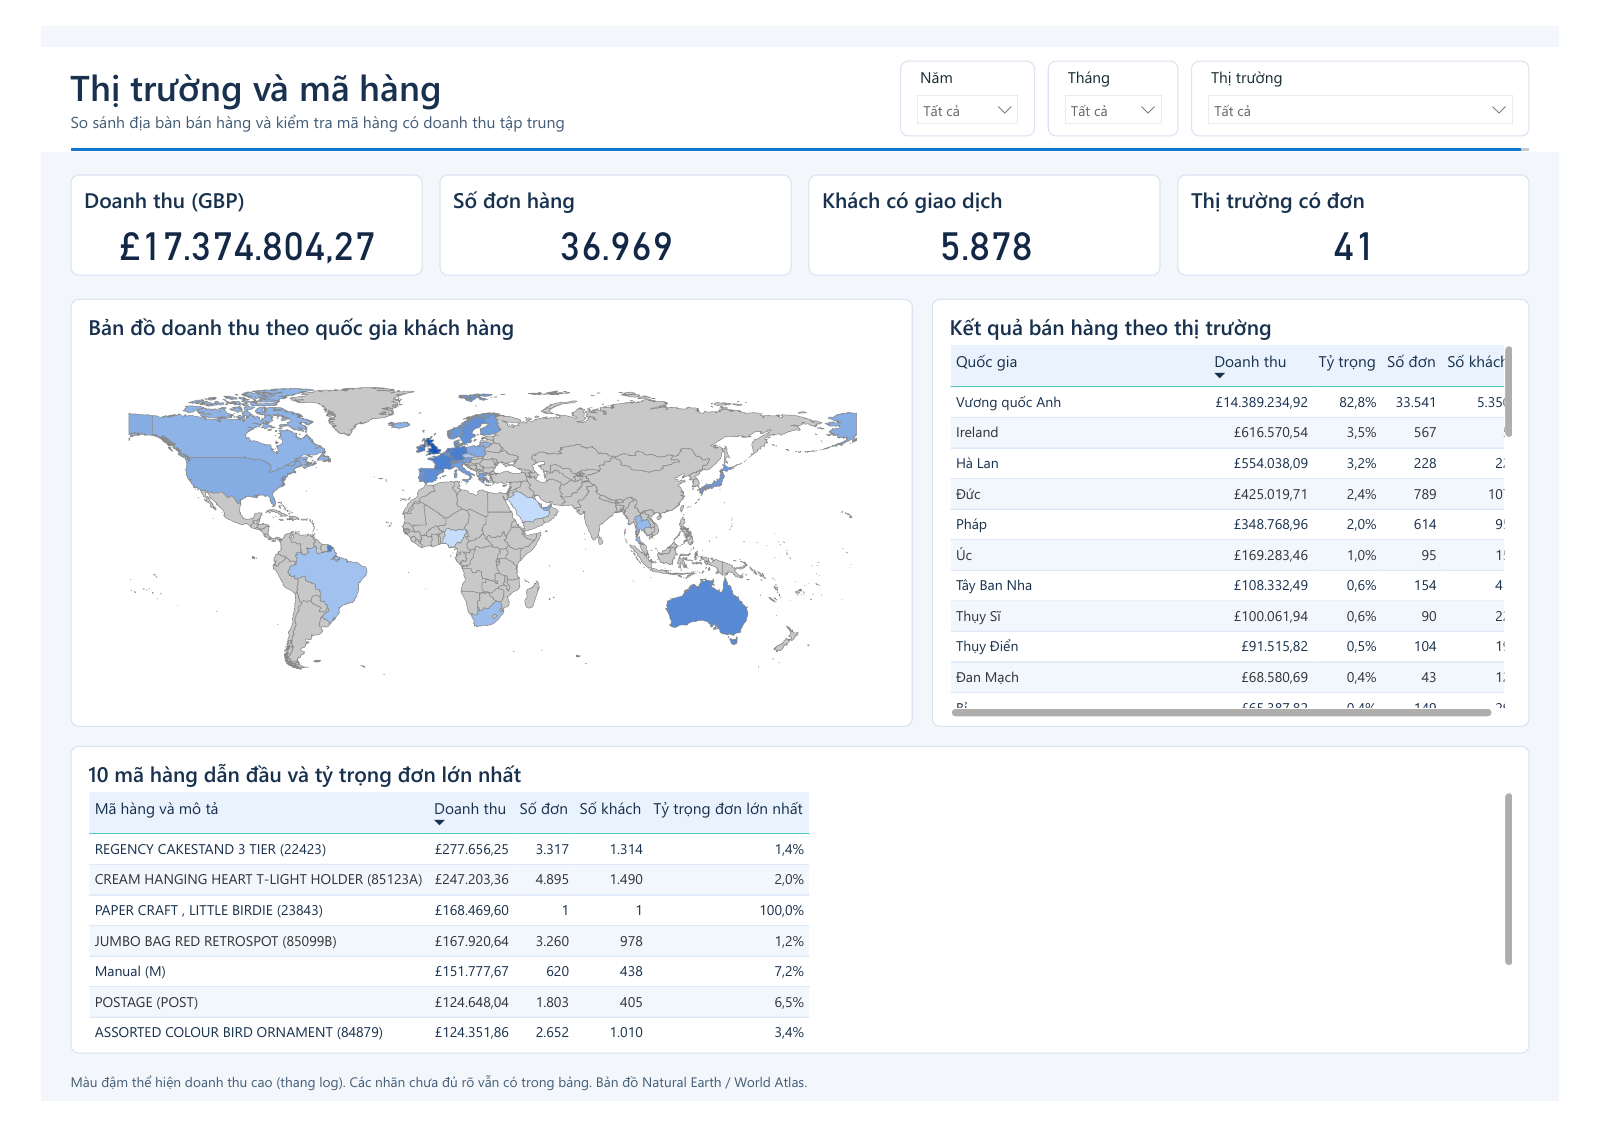

Layout of this report page (visuals, bound fields, positions):
{"tool":"powerbi","page":{"name":"Thị trường và mã hàng","canvas":[1440,1000],"ordinal":2},"visuals":[{"type":"textbox","box":[0,0,1440,100],"z":0},{"type":"slicer","fields":{"Values":["DimDate.Year"]},"box":[815,13,128,72],"z":19535},{"type":"slicer","fields":{"Values":["DimDate.MonthNo"]},"box":[955,13,124,72],"z":19675},{"type":"slicer","fields":{"Values":["DimCountry.CountryVI"]},"box":[1091,13,321,72],"z":19811},{"type":"textbox","box":[28,96,1384,3],"z":138268},{"type":"card","title":"Doanh thu (GBP)","fields":{"Values":["FactSales.Sales revenue"]},"box":[28,121,334,96],"z":174268},{"type":"card","title":"Số đơn hàng","fields":{"Values":["FactSales.Orders"]},"box":[378,121,334,96],"z":174618},{"type":"card","title":"Khách có giao dịch","fields":{"Values":["FactSales.Active customers"]},"box":[728,121,334,96],"z":174968},{"type":"card","title":"Thị trường có đơn","fields":{"Values":["FactSales.Active markets"]},"box":[1078,121,334,96],"z":175318},{"type":"shapeMap","title":"Bản đồ doanh thu theo quốc gia khách hàng","fields":{"Category":["DimCountry.CountryVI"],"Value":["FactSales.Market map intensity"]},"box":[28,239,799,406],"z":344188},{"type":"tableEx","title":"Kết quả bán hàng theo thị trường","fields":{"Values":["DimCountry.CountryVI","FactSales.Sales revenue","FactSales.Market sales share","FactSales.Orders","FactSales.Active customers"]},"box":[845,239,567,406],"z":345005},{"type":"tableEx","title":"10 mã hàng dẫn đầu và tỷ trọng đơn lớn nhất","fields":{"Values":["DimProduct.Product","FactSales.Product ranking revenue","FactSales.Top product orders","FactSales.Top product customers","FactSales.Top product largest invoice share"]},"box":[28,663,1384,292],"z":954748},{"type":"textbox","box":[28,972,1384,22],"z":1399708}]}

Visuals, with their boxes in screenshot pixels (x1, y1, x2, y2), scaled from the page's 1440x1000 canvas onto the 1600x1127 screenshot:
textbox: bbox=(0, 0, 1599, 113)
slicer - DimDate.Year: bbox=(906, 15, 1048, 96)
slicer - DimDate.MonthNo: bbox=(1061, 15, 1199, 96)
slicer - DimCountry.CountryVI: bbox=(1212, 15, 1569, 96)
textbox: bbox=(31, 108, 1569, 112)
"Doanh thu (GBP)" card: bbox=(31, 136, 402, 245)
"Số đơn hàng" card: bbox=(420, 136, 791, 245)
"Khách có giao dịch" card: bbox=(809, 136, 1180, 245)
"Thị trường có đơn" card: bbox=(1198, 136, 1569, 245)
"Bản đồ doanh thu theo quốc gia khách hàng" shapeMap: bbox=(31, 269, 919, 727)
"Kết quả bán hàng theo thị trường" tableEx: bbox=(939, 269, 1569, 727)
"10 mã hàng dẫn đầu và tỷ trọng đơn lớn nhất" tableEx: bbox=(31, 747, 1569, 1076)
textbox: bbox=(31, 1095, 1569, 1120)
